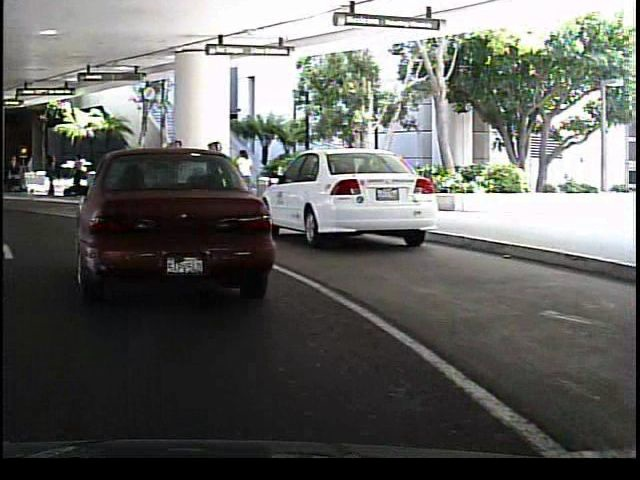person: (161, 135, 187, 207), (198, 136, 223, 210), (230, 145, 257, 204), (40, 149, 60, 202), (65, 155, 87, 196)
